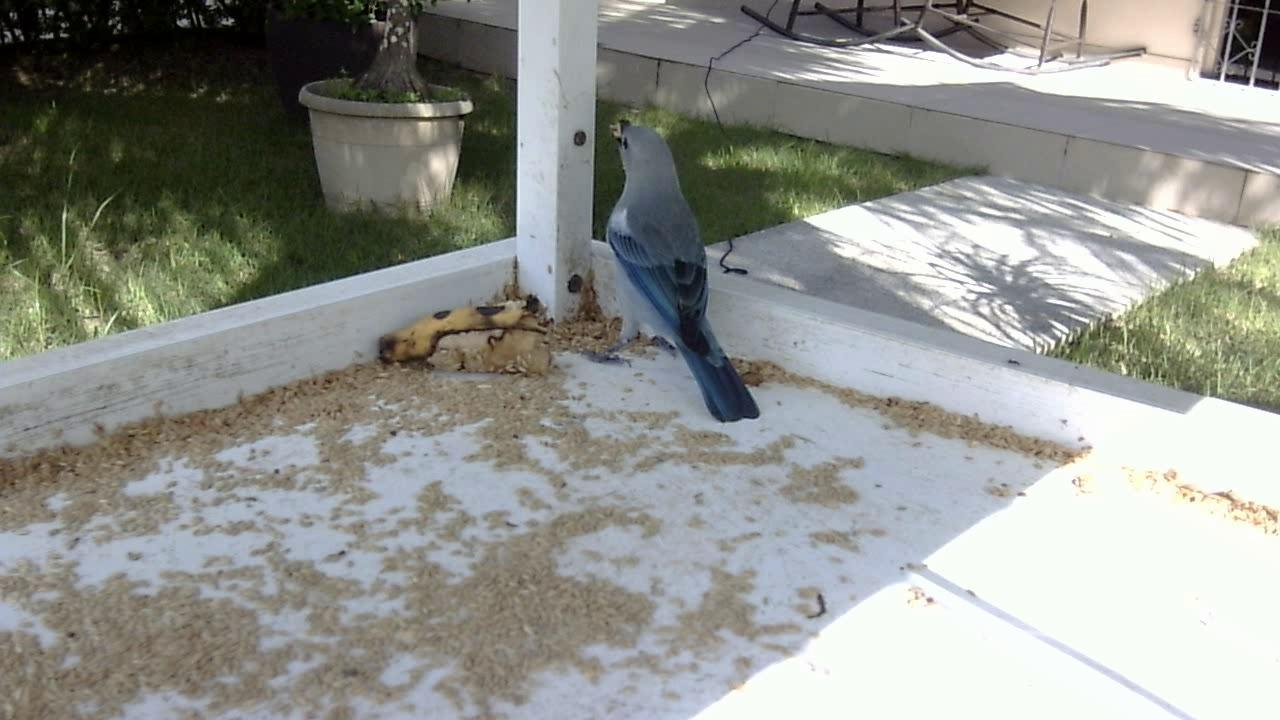sanhaco_da_amazonia: (589, 119, 770, 433)
